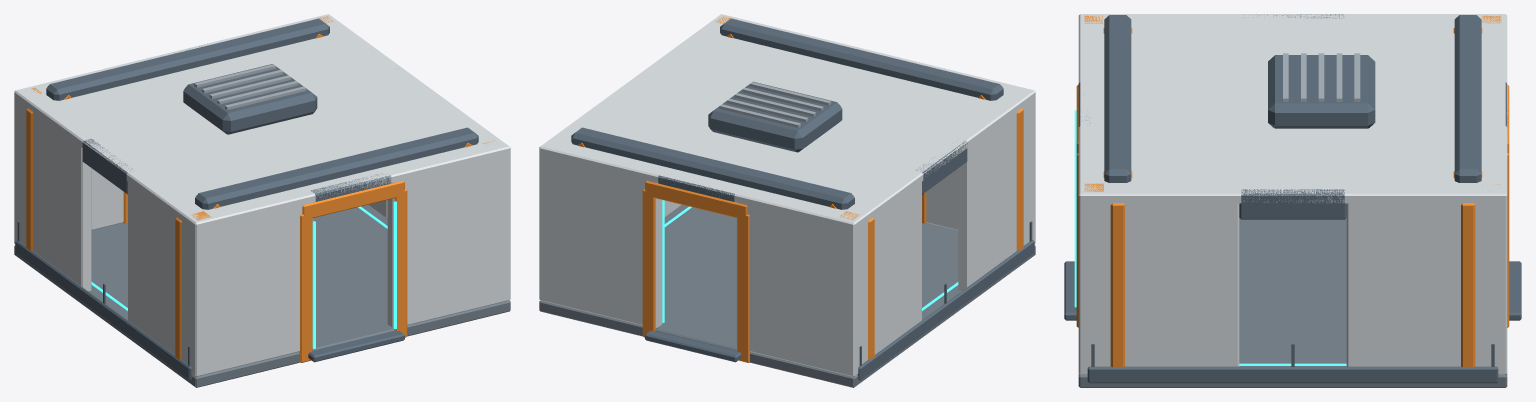
The model's file is room-JunctionRoom.fbx.
3 renders of one model, left to right at view 1: azimuth 30°, elevation 25°; view 2: azimuth 150°, elevation 25°; view 3: azimuth 270°, elevation 25°, orthographic. The views are drawn at different scales.
Parts seen in each view (by area): view 1: room-JunctionRoom_Roof.001, room-JunctionRoom_End panel.005, room-JunctionRoom_End panel.004, room-JunctionRoom_Deck.001, room-JunctionRoom_Junction side.005, room-JunctionRoom_Junction side.004, room-JunctionRoom_Roof cross brace, room-JunctionRoom_Roof cross brace.001, room-JunctionRoom_Roof service pod, room-JunctionRoom_Lower armour band, room-JunctionRoom_Port post.004, room-JunctionRoom_Port lintel.002 (+14 smaller); view 2: room-JunctionRoom_Roof.001, room-JunctionRoom_End panel.007, room-JunctionRoom_End panel.006, room-JunctionRoom_Deck.001, room-JunctionRoom_Junction side.004, room-JunctionRoom_Junction side.005, room-JunctionRoom_Roof cross brace.001, room-JunctionRoom_Roof cross brace, room-JunctionRoom_Roof service pod, room-JunctionRoom_Lower armour band, room-JunctionRoom_Port post.007, room-JunctionRoom_Port post.006 (+12 smaller); view 3: room-JunctionRoom_Roof.001, room-JunctionRoom_Junction side.007, room-JunctionRoom_Junction side.006, room-JunctionRoom_Deck.001, room-JunctionRoom_Lower armour band.001, room-JunctionRoom_Roof service pod, room-JunctionRoom_Roof cross brace, room-JunctionRoom_Roof cross brace.001, room-JunctionRoom_Junction lintel.003, room-JunctionRoom_Armoured corner post.001, room-JunctionRoom_Armoured corner post.003, room-JunctionRoom_End panel.005 (+6 smaller).
Boxes of the visible parts, x1=… form: room-JunctionRoom_Roof.001: x1=14, y1=14, x2=510, y2=229; room-JunctionRoom_End panel.005: x1=387, y1=153, x2=510, y2=328; room-JunctionRoom_End panel.004: x1=190, y1=202, x2=313, y2=376; room-JunctionRoom_Deck.001: x1=14, y1=205, x2=510, y2=387; room-JunctionRoom_Junction side.005: x1=14, y1=98, x2=91, y2=291; room-JunctionRoom_Junction side.004: x1=128, y1=181, x2=204, y2=375; room-JunctionRoom_Roof cross brace: x1=195, y1=127, x2=478, y2=209; room-JunctionRoom_Roof cross brace.001: x1=46, y1=18, x2=329, y2=100; room-JunctionRoom_Roof service pod: x1=183, y1=64, x2=317, y2=134; room-JunctionRoom_Lower armour band: x1=15, y1=240, x2=192, y2=380; room-JunctionRoom_Port post.004: x1=299, y1=214, x2=312, y2=362; room-JunctionRoom_Port lintel.002: x1=302, y1=180, x2=404, y2=219; room-JunctionRoom_Roof.001: x1=539, y1=14, x2=1035, y2=229; room-JunctionRoom_End panel.007: x1=539, y1=153, x2=662, y2=328; room-JunctionRoom_End panel.006: x1=736, y1=202, x2=859, y2=376; room-JunctionRoom_Deck.001: x1=539, y1=205, x2=1035, y2=387; room-JunctionRoom_Junction side.004: x1=958, y1=98, x2=1035, y2=291; room-JunctionRoom_Junction side.005: x1=845, y1=182, x2=921, y2=376; room-JunctionRoom_Roof cross brace.001: x1=571, y1=127, x2=854, y2=209; room-JunctionRoom_Roof cross brace: x1=720, y1=18, x2=1003, y2=100; room-JunctionRoom_Roof service pod: x1=708, y1=81, x2=842, y2=152; room-JunctionRoom_Lower armour band: x1=857, y1=240, x2=1034, y2=380; room-JunctionRoom_Port post.007: x1=642, y1=189, x2=655, y2=337; room-JunctionRoom_Port post.006: x1=737, y1=214, x2=750, y2=362; room-JunctionRoom_Roof.001: x1=1078, y1=14, x2=1507, y2=203; room-JunctionRoom_Junction side.007: x1=1346, y1=202, x2=1507, y2=374; room-JunctionRoom_Junction side.006: x1=1078, y1=202, x2=1239, y2=374; room-JunctionRoom_Deck.001: x1=1078, y1=218, x2=1507, y2=387; room-JunctionRoom_Lower armour band.001: x1=1087, y1=366, x2=1498, y2=383; room-JunctionRoom_Roof service pod: x1=1268, y1=55, x2=1375, y2=128; room-JunctionRoom_Roof cross brace: x1=1104, y1=15, x2=1131, y2=182; room-JunctionRoom_Roof cross brace.001: x1=1454, y1=15, x2=1481, y2=182; room-JunctionRoom_Junction lintel.003: x1=1239, y1=189, x2=1346, y2=219; room-JunctionRoom_Armoured corner post.001: x1=1110, y1=203, x2=1124, y2=367; room-JunctionRoom_Armoured corner post.003: x1=1461, y1=203, x2=1475, y2=367; room-JunctionRoom_End panel.005: x1=1078, y1=202, x2=1090, y2=374.
Bounding box in the file's own units: 610 × 343 × 640.
